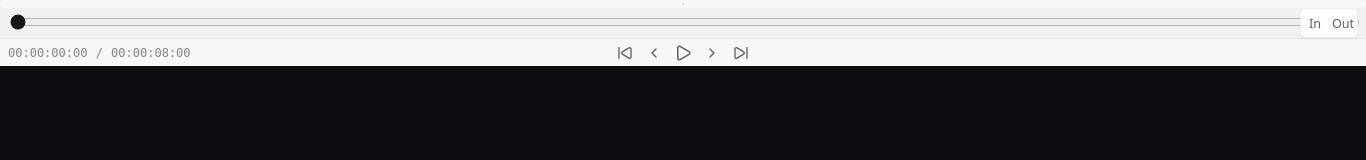
it: SourceMonitor › scrubbing the range input updates the current time
Set the slider named "scrub source" to "3" at (518, 22), box left=10, top=14, right=1360, bottom=30
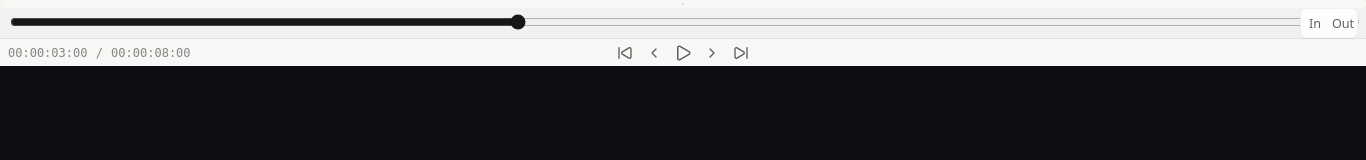
Expected: the text named "source current time" reads "00:00:03:00", left=8, top=46, right=88, bottom=60
